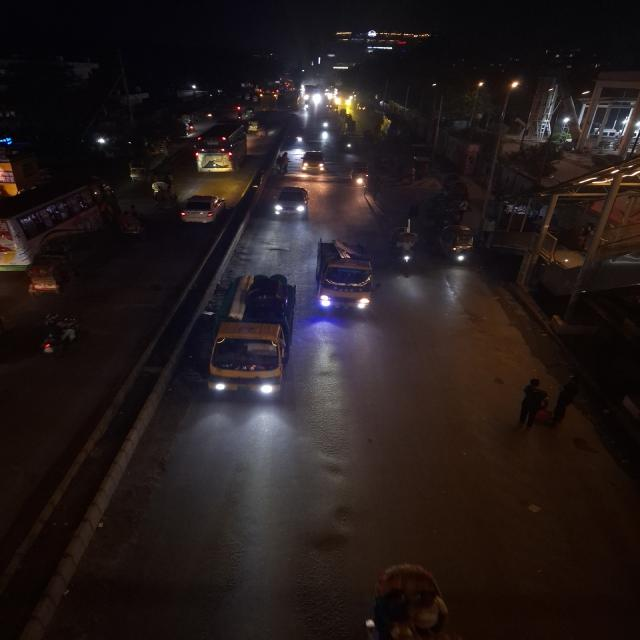bus: (0, 172, 118, 262), (186, 122, 251, 178)
car: (270, 180, 312, 224), (178, 193, 229, 228), (301, 149, 328, 175)
cng: (437, 223, 479, 269), (349, 158, 372, 184)
motorcycle: (40, 309, 84, 362), (294, 128, 307, 150)
pedestrian: (507, 373, 547, 441), (546, 370, 577, 448), (274, 149, 292, 180)
pickup_van: (206, 270, 296, 405), (314, 235, 376, 317)
rickshaw: (361, 559, 457, 640), (389, 219, 425, 279), (26, 256, 70, 298), (115, 200, 148, 242), (120, 148, 153, 189), (146, 173, 177, 198)
